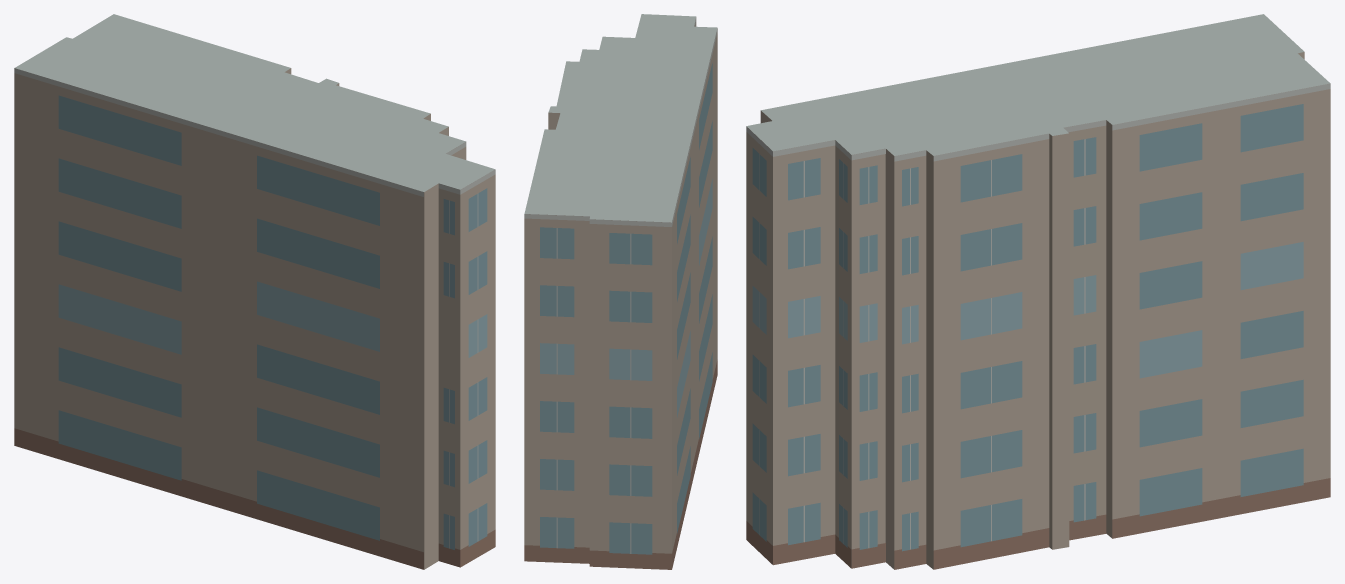
The model's file is survey-upis-32553306.glb.
3 views of the same model, side by side, from view 1: azimuth 30°, elevation 25°; view 2: azimuth 150°, elevation 25°; view 3: azimuth 270°, elevation 25° (orthographic). The views are drawn at different scales.
Visible parts, largest first — view 1: survey-upis-32553306.tmp; view 2: survey-upis-32553306.tmp; view 3: survey-upis-32553306.tmp.
Boxes of the visible parts, left/top/right/bottom form: survey-upis-32553306.tmp: left=14, top=14, right=495, bottom=569; survey-upis-32553306.tmp: left=524, top=14, right=717, bottom=569; survey-upis-32553306.tmp: left=746, top=14, right=1330, bottom=569.
Bounding box in the file's own units: 13.49 × 18.3 × 23.43.
